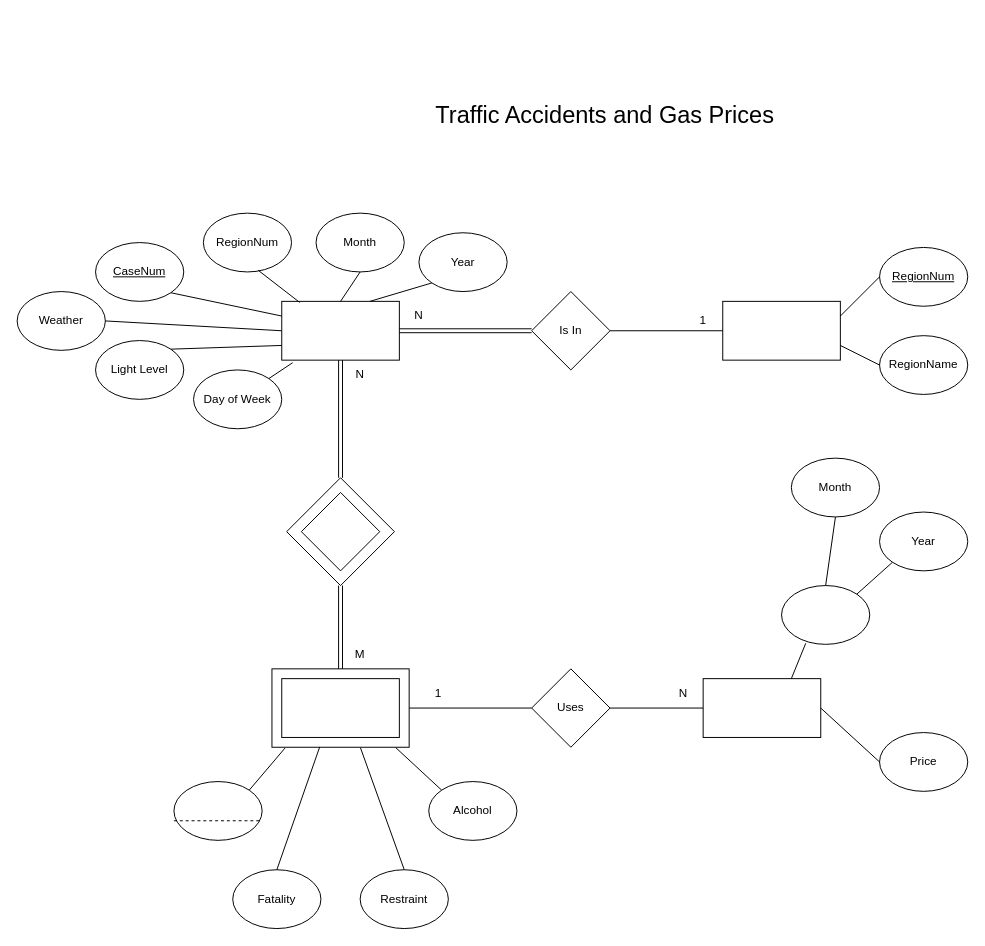
The diagram is 985 pixels wide and 946 high, and some of its shapes have lost their labels. Here are the shapes that lost their labels. From the top down, the centre of each, then its label:
(x=340, y=330): Incident
(x=781, y=330): Region
(x=340, y=531): Involved In
(x=825, y=614): Month_Year
(x=340, y=707): Vehicle
(x=761, y=707): Gas
(x=217, y=810): Vehicle Number
